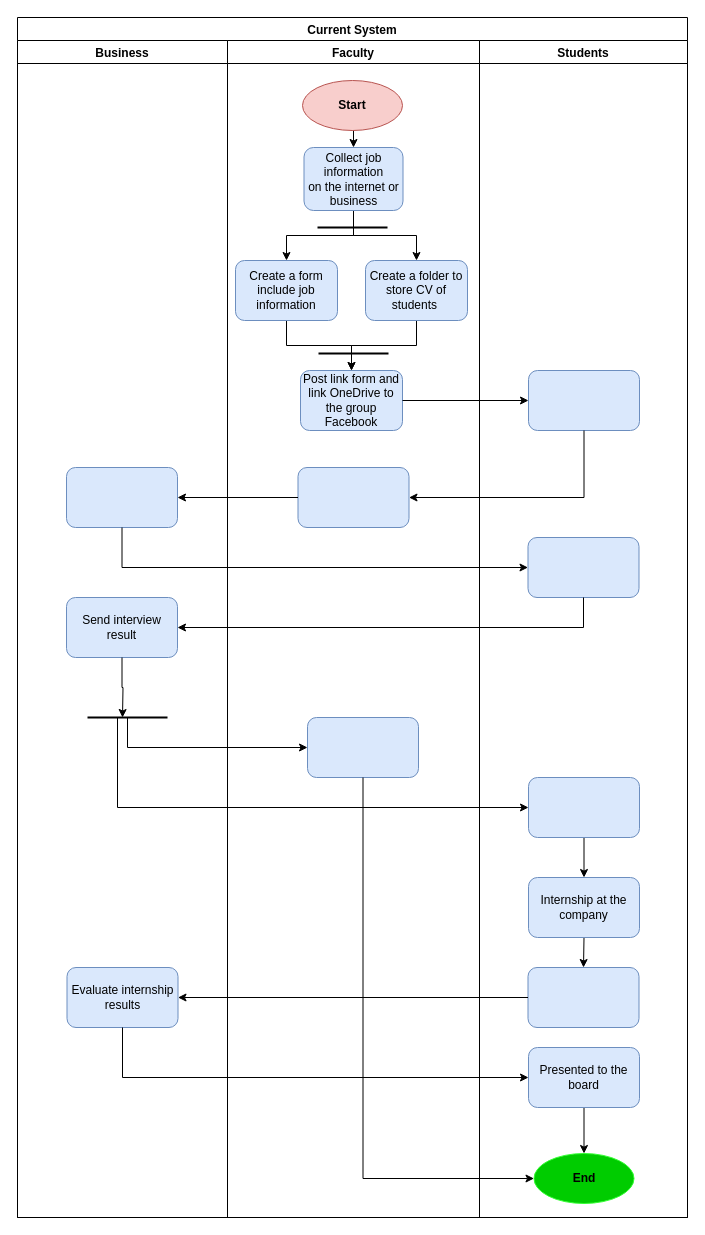
This 705x1235 diagram has some shape labels left out. Each missing label, with the centre of its shape:
"Attend an interview" goes at point 583,567.
"Read post in group, submit a form and upload CV to OneDrive" goes at point 584,400.
"Receive information and contact students" goes at point 122,497.
"Receive interview result" goes at point 584,807.
"Receive interview result and post to group Facebook" goes at point 362,747.
"Summarize result and send to business" goes at point 353,497.
"Write internship report" goes at point 583,997.
